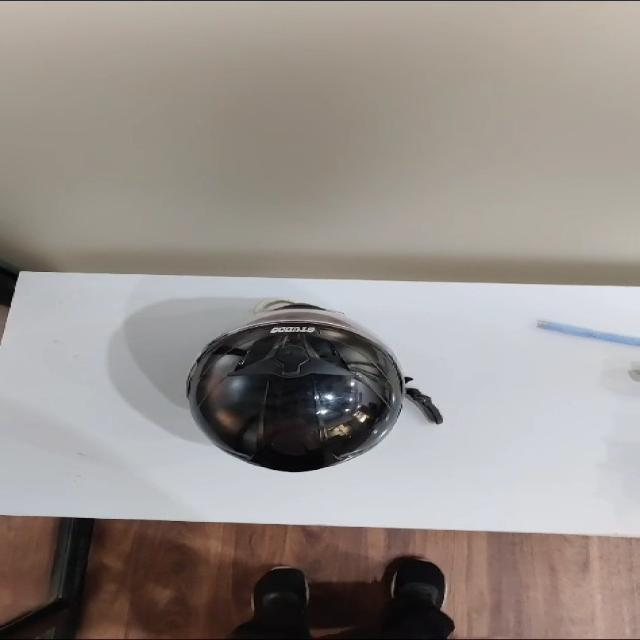helmet: (160, 306, 426, 485)
